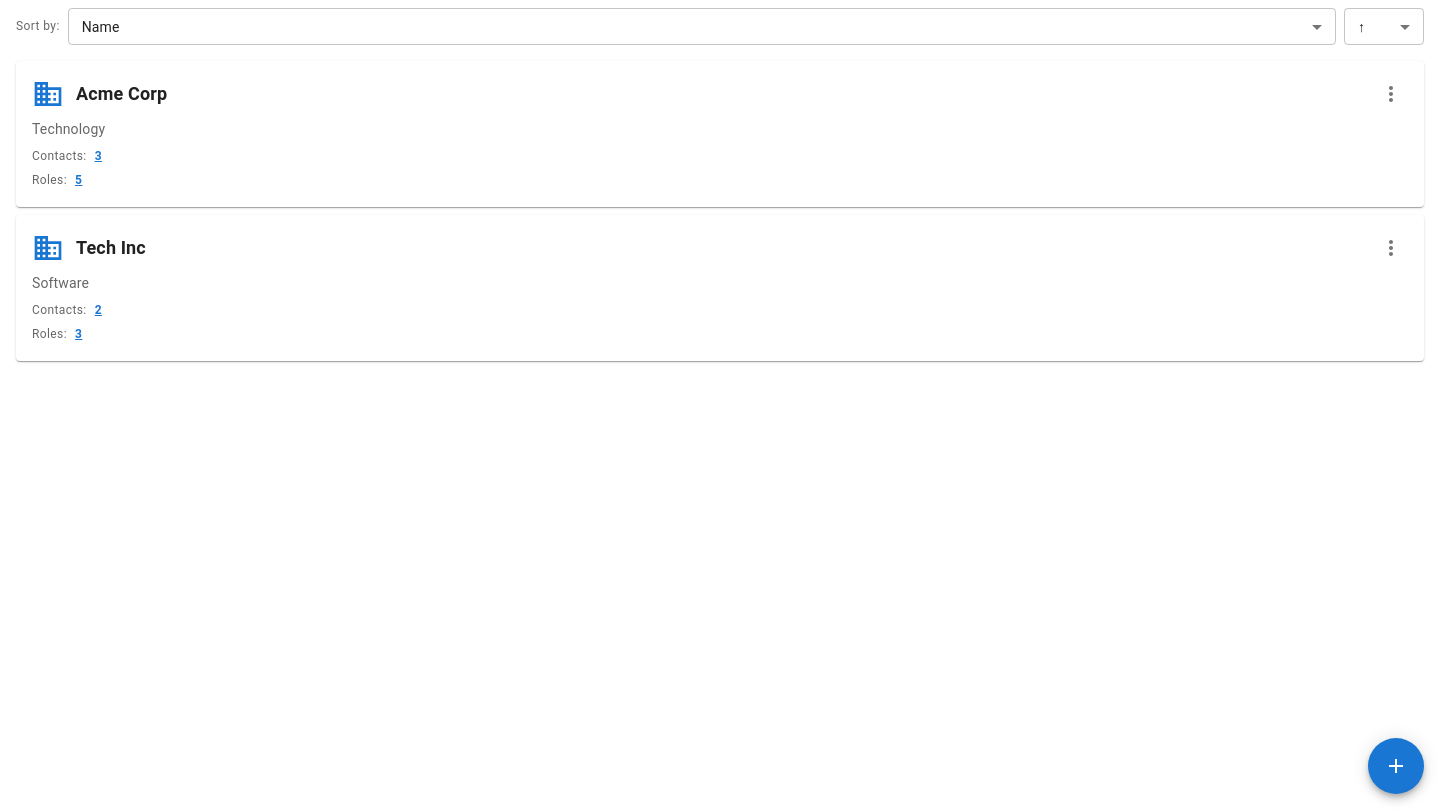
Test: HubMainView Mobile Modals › Organisation Contacts Modal › should open contacts modal when clicking contacts count on organisation card
The width and height of the screenshot is (1440, 810).
Expected: the text "Acme Corp" is shown, [76,80,167,108]
// Click the contacts count (should be "3")
Click the 1st button "3" at {"x": 98, "y": 157}, box [95,147,102,167]
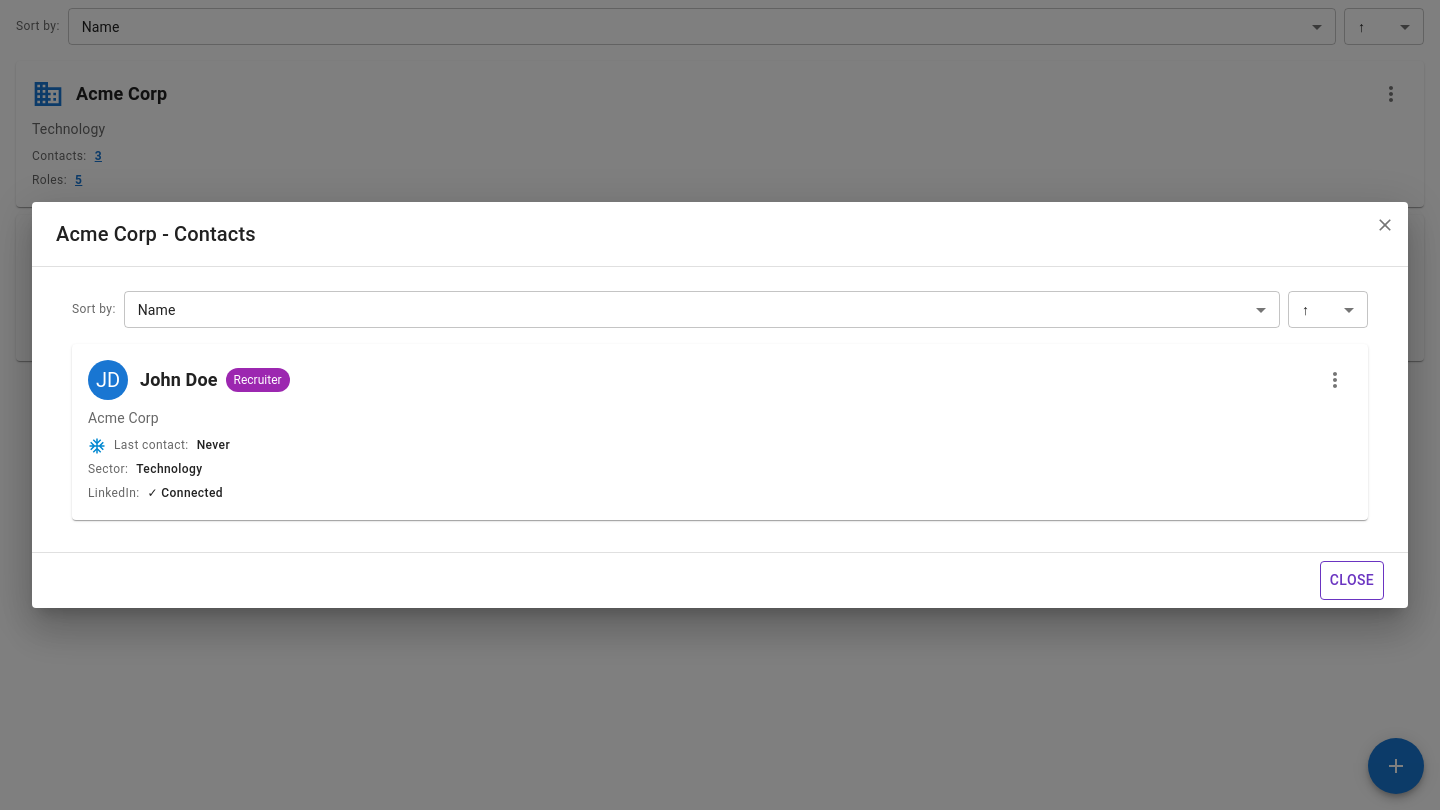
Result: the dialog is shown at [32,202,1408,608]
Result: the heading "Acme Corp - Contacts" is shown at [56,222,256,246]
Result: the text "John Doe" is shown at [140,366,218,395]
